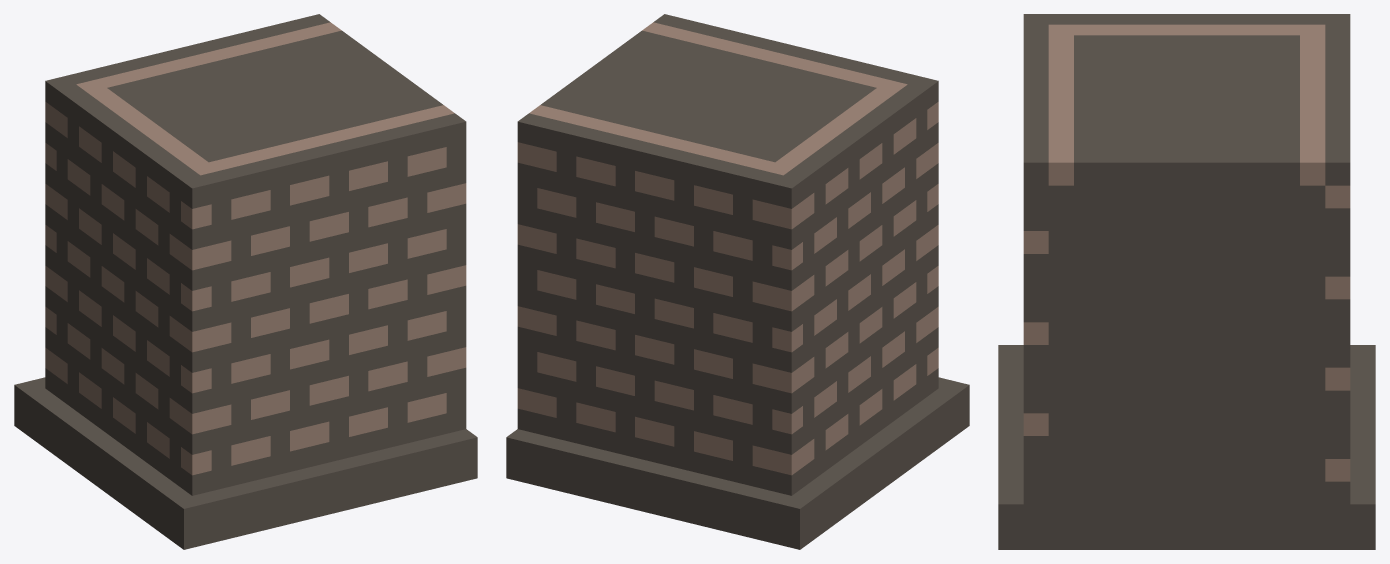
The model's file is dungeon_a_a_inner_wall_ending_flipped.obj.
3 renders of one model, left to right at view 1: azimuth 30°, elevation 25°; view 2: azimuth 150°, elevation 25°; view 3: azimuth 270°, elevation 25°, orthographic. The views are drawn at different scales.
Size of the model in its own units: 1.5 by 1.7 by 1.5.
Materials: 1 (1 with a texture image).
